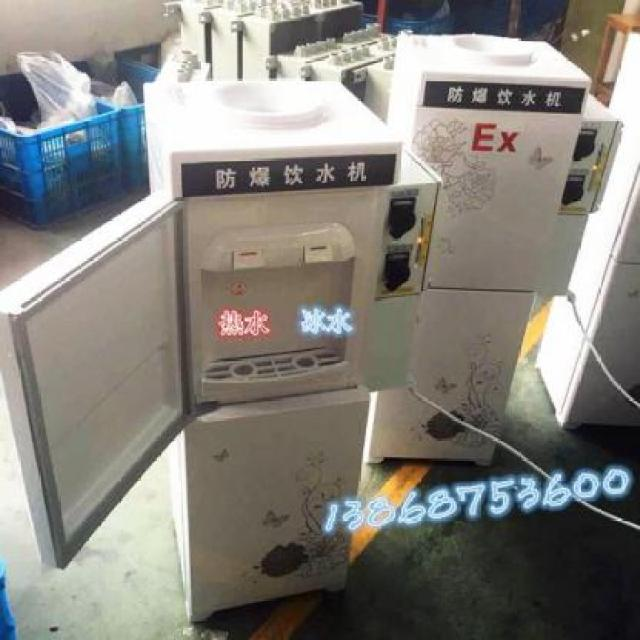cooler: (140, 76, 397, 624), (370, 31, 624, 465)
